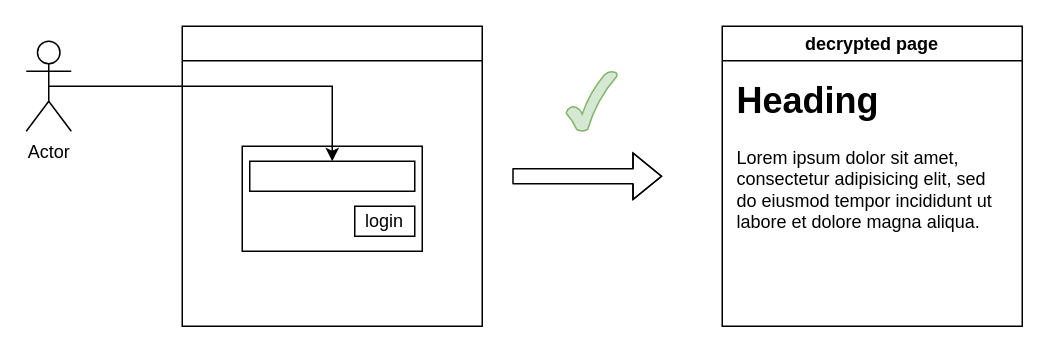
Some shapes in this 1049 by 353 pixel diagram are drawn without their labels. The shapes that lost their labels are listed below. From the top down, each one's box as (x1, y1, x2, y2) in pixels, then its label:
(248, 160, 415, 191): key
(181, 25, 482, 326): single page
